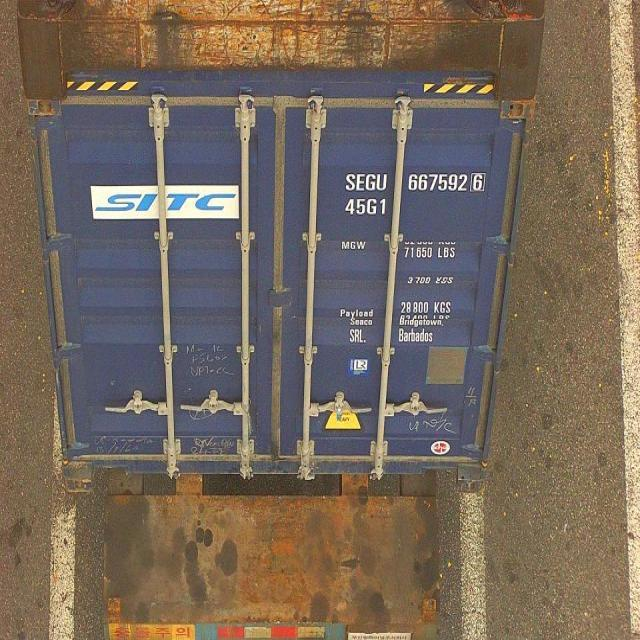ISO: (342, 195, 387, 218)
container_number: (348, 175, 489, 192)
